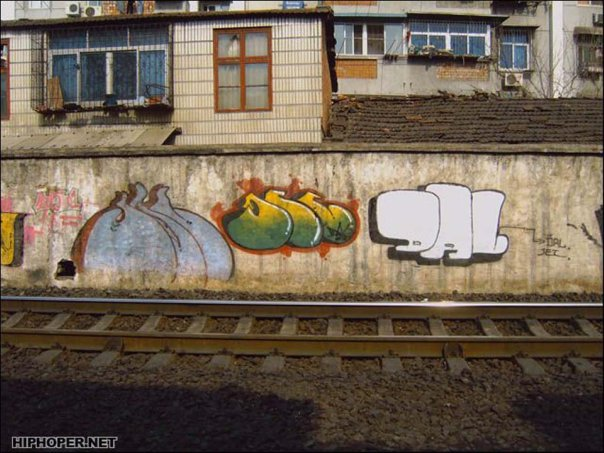graffity: (366, 178, 576, 272), (65, 179, 237, 286), (208, 173, 363, 266)
